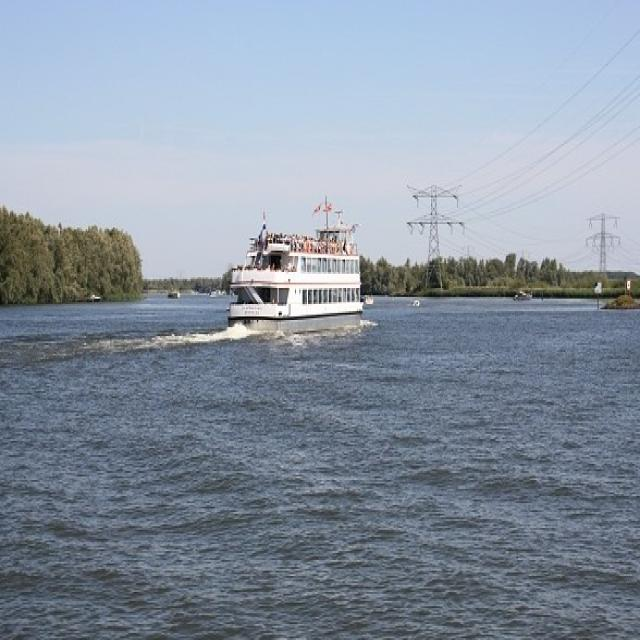houseboat: (217, 211, 376, 325)
